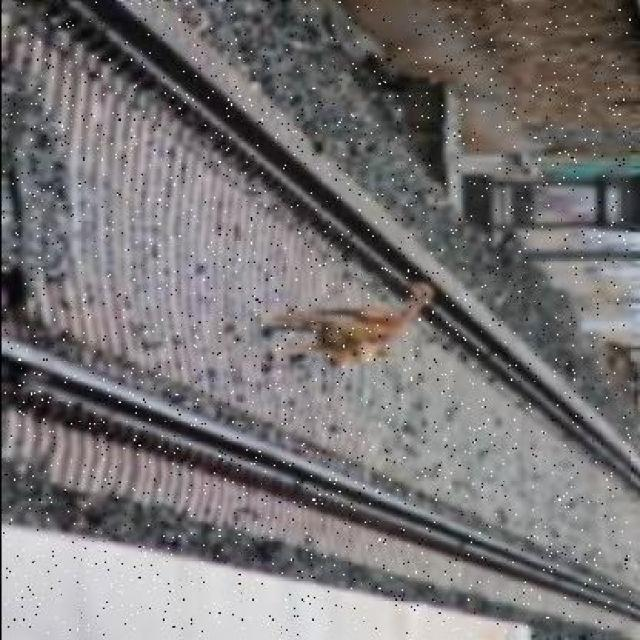danger: (260, 280, 434, 389)
rail: (2, 2, 628, 635)
